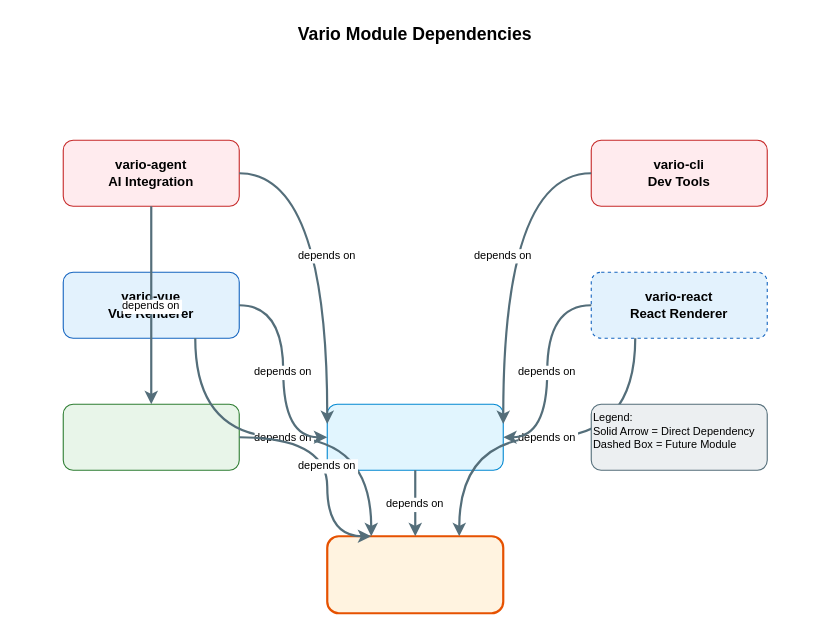
The diagram is 829 pixels wide and 633 high, and some of its shapes have lost their labels. The shapes that lost their labels are listed below. From the top down, each one's centre as x and y in pixels, then its label:
At (x=150, y=436): "vario-runtime Plugin System".
At (x=414, y=436): "vario-schema Schema DSL".
At (x=415, y=574): "vario-core (No Dependencies) Core Runtime".
